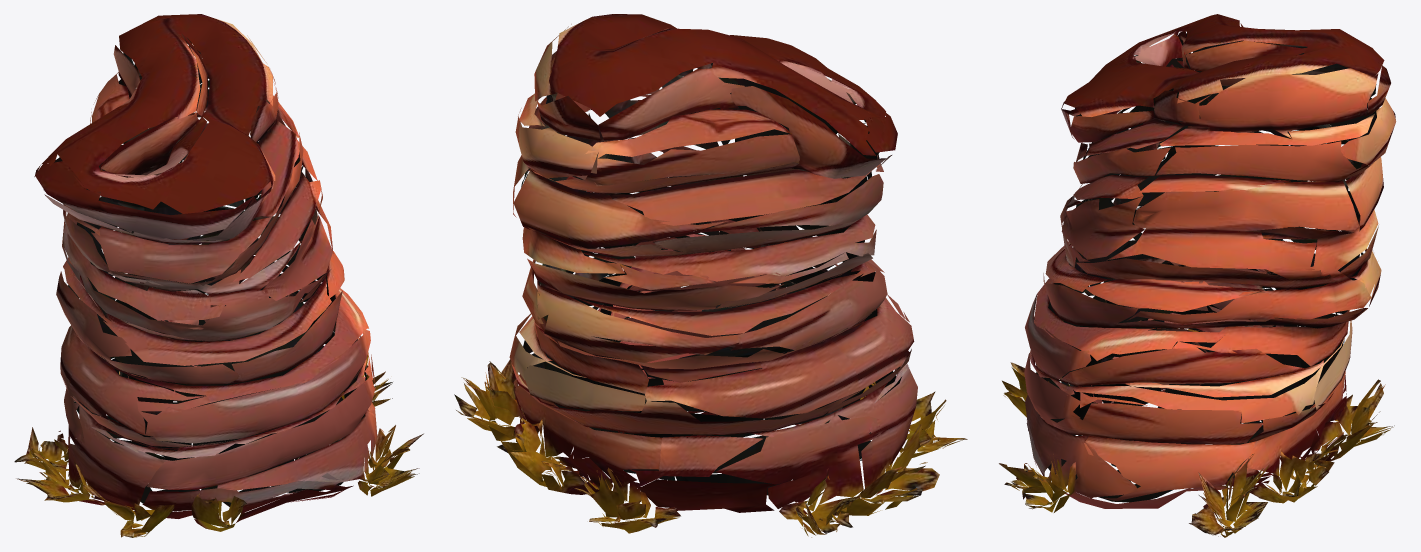
Rendered from kanyon_kaya_a.glb.
3 views of the same model, side by side, from view 1: azimuth 30°, elevation 25°; view 2: azimuth 150°, elevation 25°; view 3: azimuth 270°, elevation 25° (orthographic). The views are drawn at different scales.
Parts seen in each view (by area): view 1: geometry_0; view 2: geometry_0; view 3: geometry_0.
Boxes of the visible parts, left/top/right/bottom form: geometry_0: left=14, top=14, right=423, bottom=537; geometry_0: left=454, top=14, right=967, bottom=537; geometry_0: left=999, top=14, right=1396, bottom=537.
Bounding box in the file's own units: 0.965 × 0.9621 × 0.8138.
Materials: 1 (1 with a texture image).
